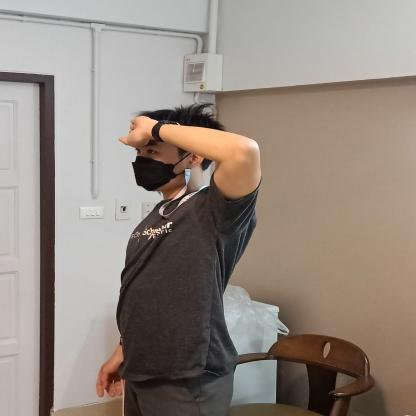Sick: (80, 100, 268, 189)
